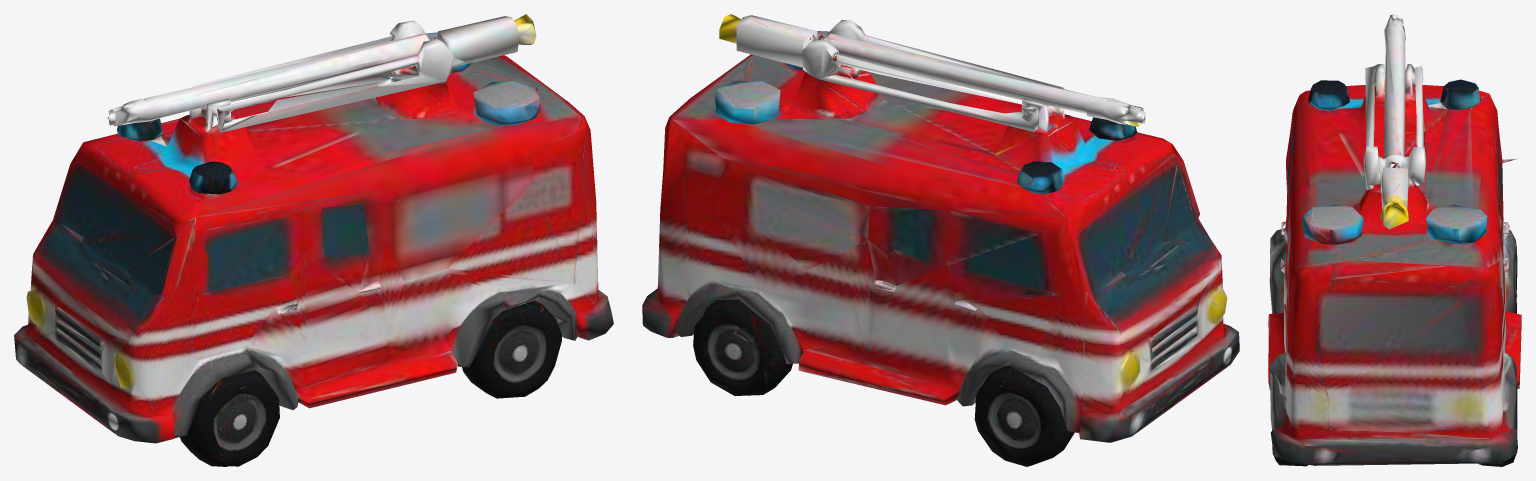
The model's file is fire-truck-512.glb.
3 views of the same model, side by side, from view 1: azimuth 30°, elevation 25°; view 2: azimuth 150°, elevation 25°; view 3: azimuth 270°, elevation 25° (orthographic). The views are drawn at different scales.
Bounding box in the file's own units: 1.9 × 1.22 × 0.9368.
Materials: 1 (1 with a texture image).
